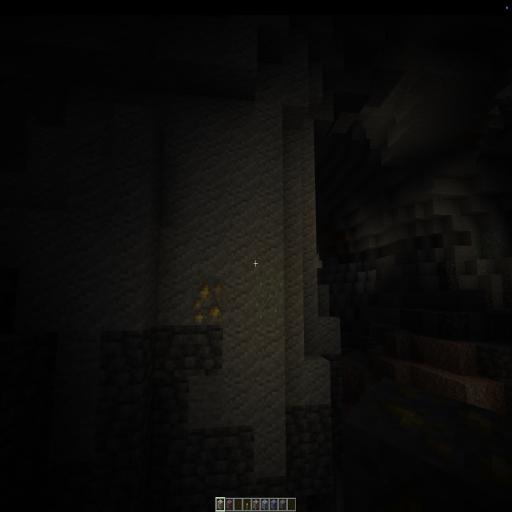gold ore: (190, 282, 226, 330)
